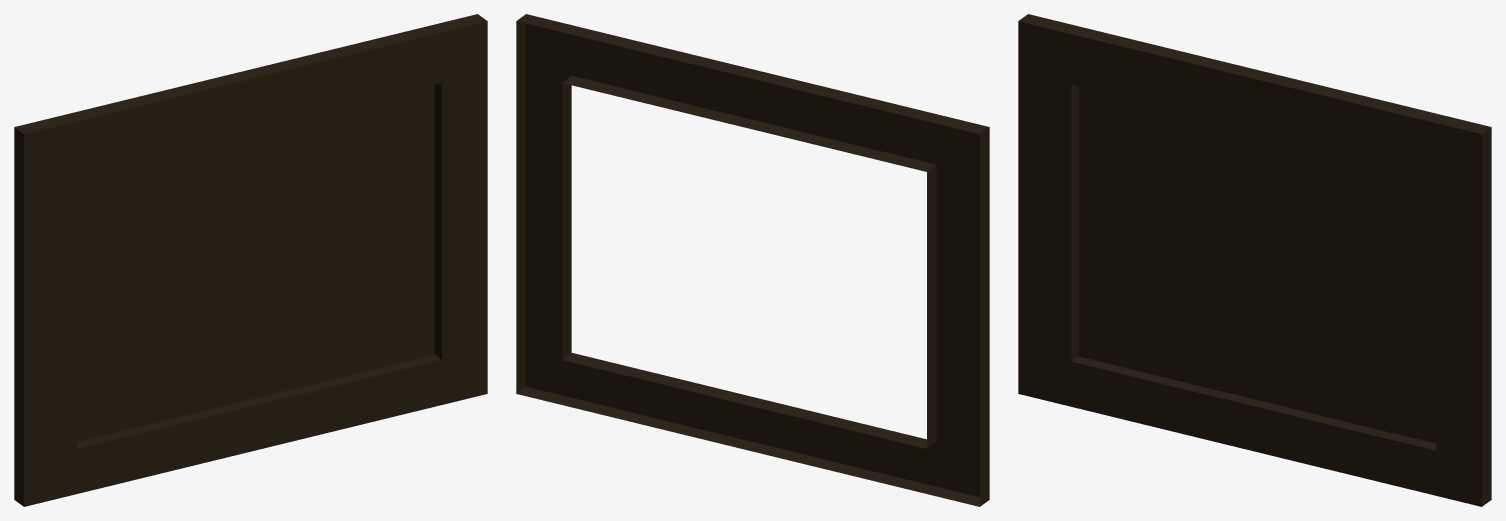
File: plate 1.FBX
The picture shows the model from 3 angles, left to right: view 1: azimuth 30°, elevation 25°; view 2: azimuth 150°, elevation 25°; view 3: azimuth 330°, elevation 25°; orthographic projection.
Visible parts, largest first — view 1: plate; view 2: plate; view 3: plate.
Part boxes in pixels (box(x1,y1,x2,y2)): plate: box(14, 14, 487, 506); plate: box(516, 14, 989, 506); plate: box(1018, 14, 1491, 506).
Bounding box in the file's own units: 23.96 × 18.41 × 0.8797.
